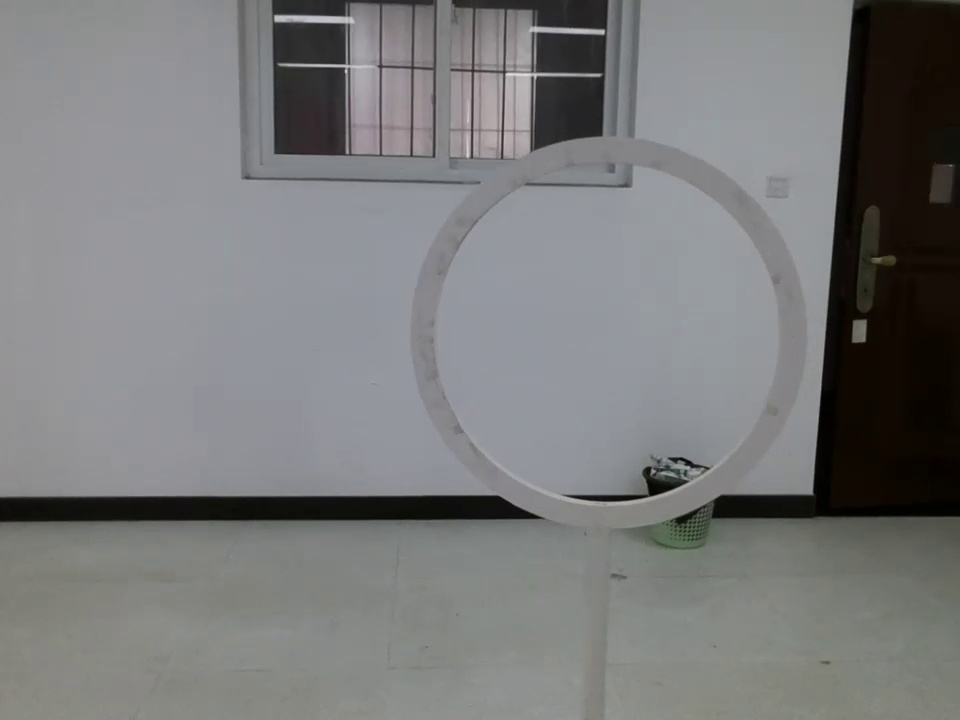quan: (414, 135, 819, 535)
